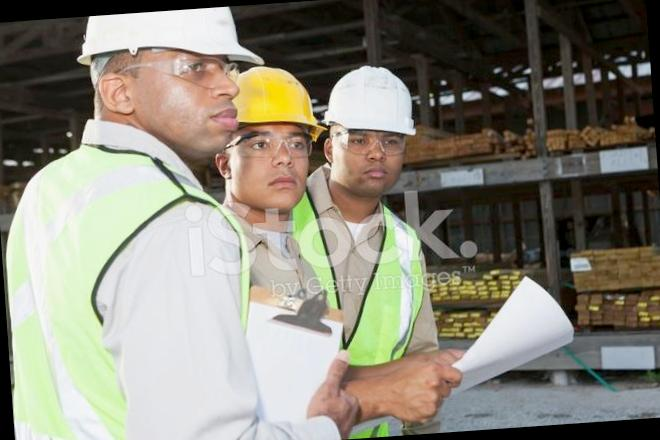helmet: (318, 62, 419, 153)
person: (310, 56, 469, 440)
